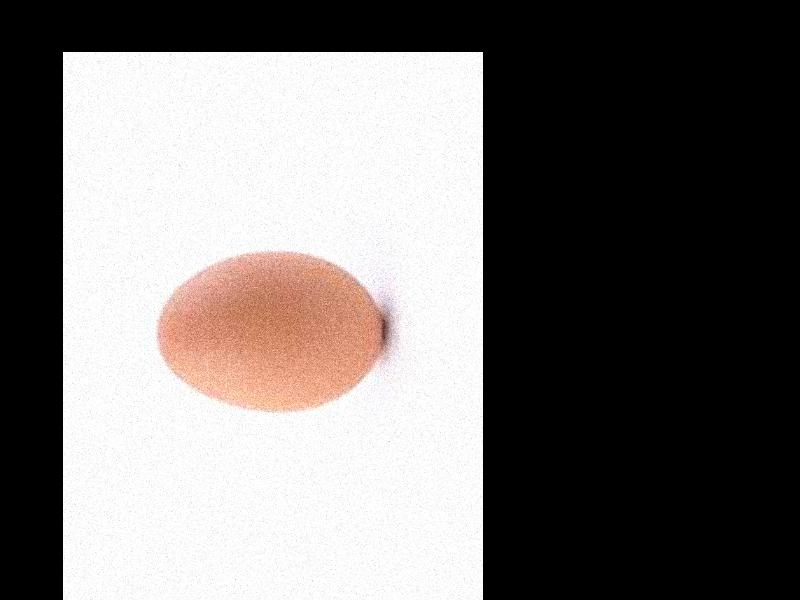Eggs: (157, 249, 382, 412)
